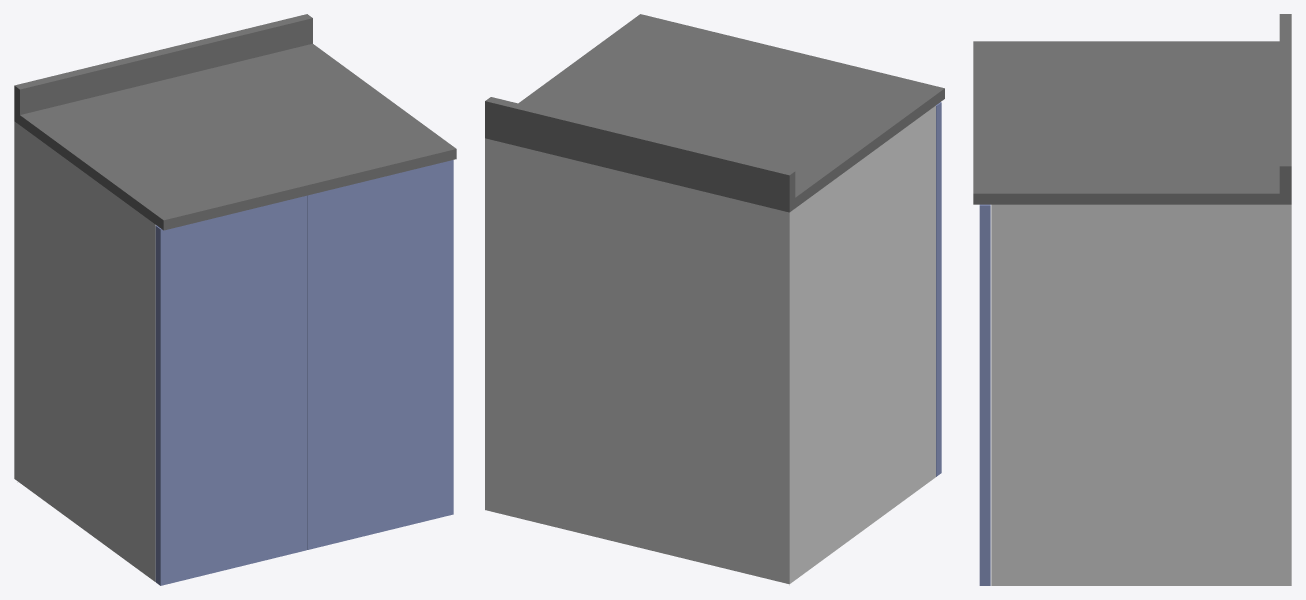
Rendered from Cabinet.fbx.
The picture shows the model from 3 angles, left to right: view 1: azimuth 30°, elevation 25°; view 2: azimuth 150°, elevation 25°; view 3: azimuth 270°, elevation 25°; orthographic projection. The views are drawn at different scales.
Parts seen in each view (by area): view 1: Countertop1, Cabinet1_Door_L, Cabinet1_Door_R, Cabinet1; view 2: Cabinet1, Countertop1, Cabinet1_Door_L; view 3: Cabinet1, Countertop1, Cabinet1_Door_R.
Part boxes in pixels (x1,y1,x2,y2): Countertop1: [14, 14, 456, 230]; Cabinet1_Door_L: [155, 195, 306, 585]; Cabinet1_Door_R: [307, 160, 453, 549]; Cabinet1: [14, 121, 155, 581]; Cabinet1: [485, 105, 935, 584]; Countertop1: [485, 14, 944, 212]; Cabinet1_Door_L: [936, 102, 941, 476]; Cabinet1: [991, 204, 1291, 585]; Countertop1: [973, 14, 1291, 204]; Cabinet1_Door_R: [979, 204, 990, 585].
Bounding box in the file's own units: 60 × 77.55 × 53.
